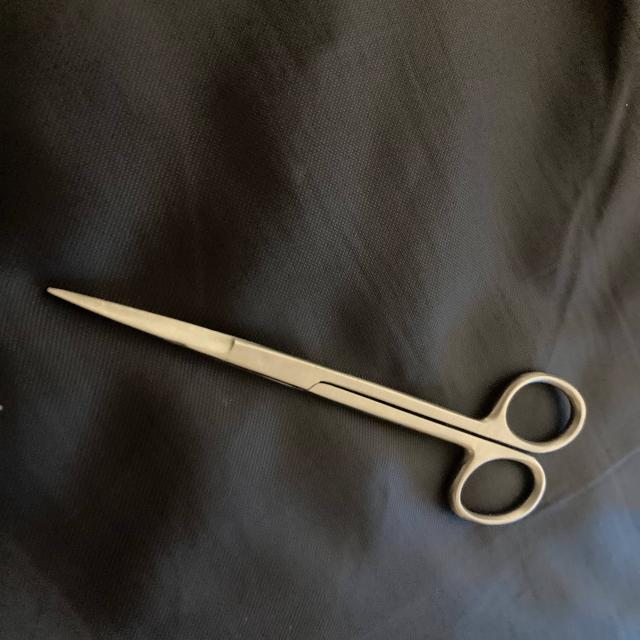scissor: (35, 273, 600, 536)
